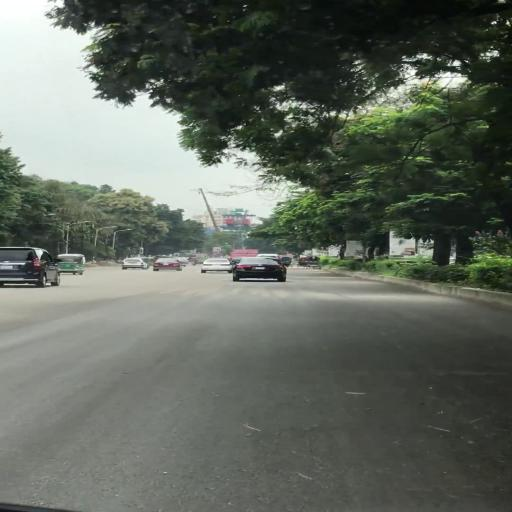car: (236, 259, 286, 282), (201, 259, 231, 274), (152, 259, 183, 273), (121, 259, 147, 270)
minivan: (1, 246, 62, 289)
rickshaw: (308, 257, 321, 271), (283, 258, 294, 270), (297, 258, 308, 269)
three wheelers (CNG): (60, 255, 87, 276)
